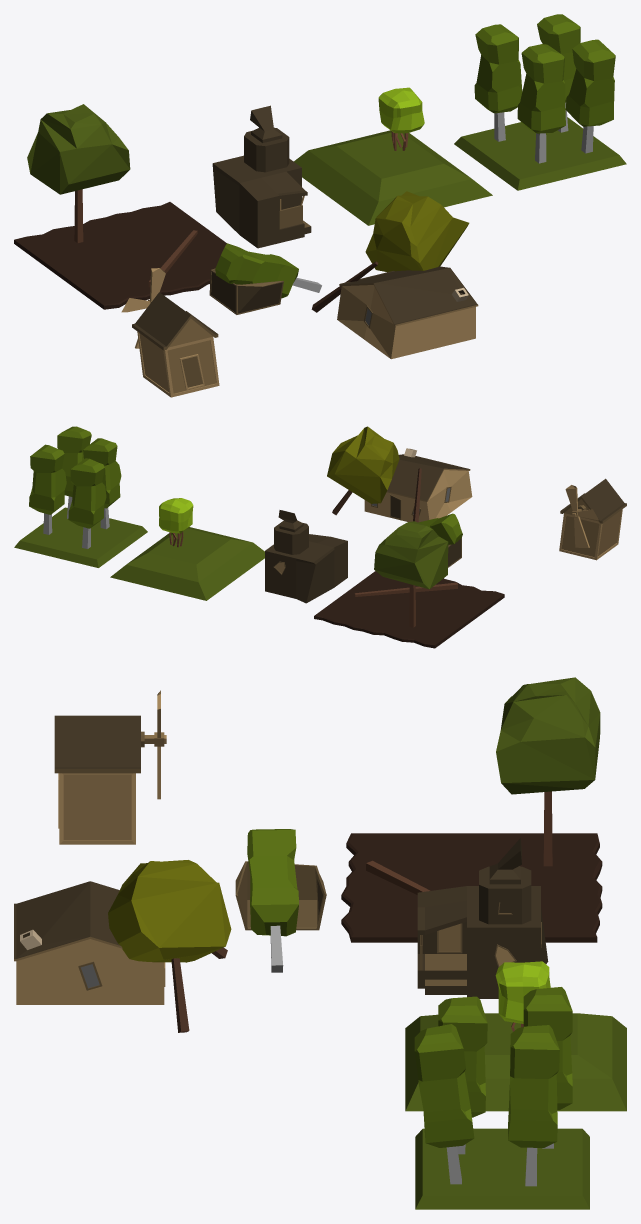
File: Abandoned.fbx
3 views of the same model, one above another, from view 1: azimuth 30°, elevation 25°; view 2: azimuth 150°, elevation 25°; view 3: azimuth 270°, elevation 25° (orthographic). The views are drawn at different scales.
Visible parts, largest first — view 1: BrokenField, Cube.012, BigHouseBroken, Cube.009, Church LVL1.001, BrokenMill, BrokenBuilding; view 2: BrokenField, Cube.012, BigHouseBroken, Cube.009, Church LVL1.001, BrokenMill, BrokenBuilding; view 3: BrokenField, Cube.012, BigHouseBroken, Church LVL1.001, Cube.009, BrokenMill, BrokenBuilding.
Boxes of the visible parts, <box> form: BrokenField: <box>14,104,226,309</box>; Cube.012: <box>454,14,626,190</box>; BigHouseBroken: <box>311,191,478,359</box>; Cube.009: <box>294,87,492,225</box>; Church LVL1.001: <box>212,105,311,248</box>; BrokenMill: <box>121,268,219,397</box>; BrokenBuilding: <box>209,243,321,314</box>; BrokenField: <box>314,521,504,648</box>; Cube.012: <box>14,426,147,567</box>; BigHouseBroken: <box>327,426,472,522</box>; Cube.009: <box>110,498,264,600</box>; Church LVL1.001: <box>265,510,347,603</box>; BrokenMill: <box>559,478,626,560</box>; BrokenBuilding: <box>418,513,462,567</box>; BrokenField: <box>341,677,602,942</box>; Cube.012: <box>414,987,589,1209</box>; BigHouseBroken: <box>14,860,231,1032</box>; Church LVL1.001: <box>417,838,548,998</box>; Cube.009: <box>405,961,626,1111</box>; BrokenMill: <box>54,690,166,844</box>; BrokenBuilding: <box>235,829,326,972</box>.
Size of the model in its own units: 3836 by 867 by 2490.
